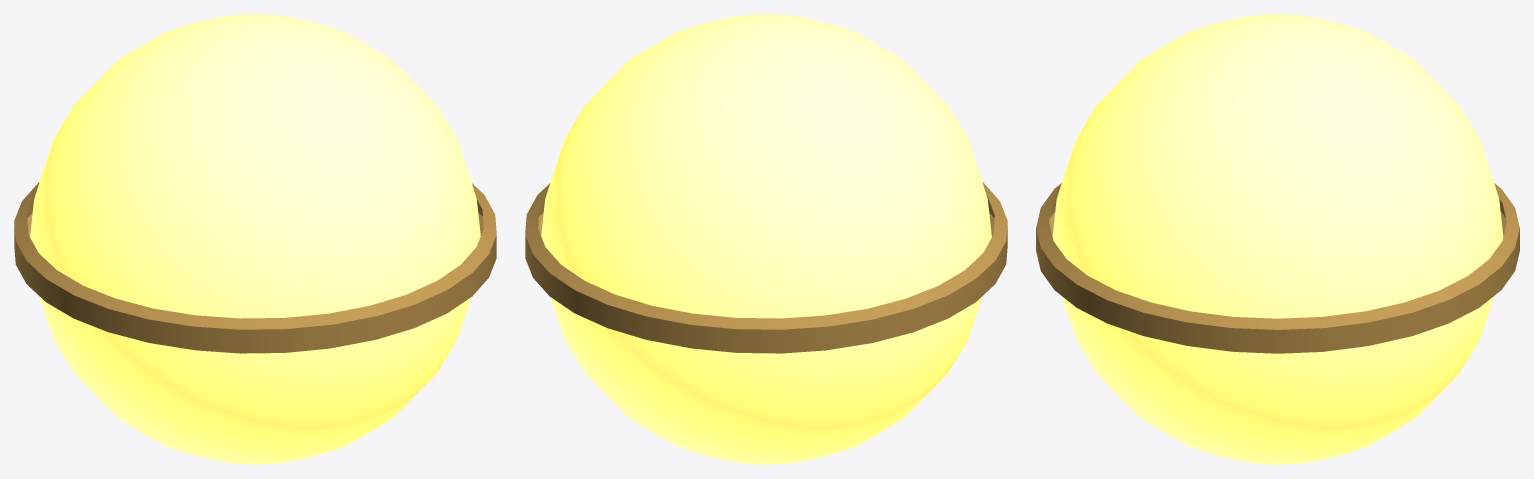
File: orrery_sun.glb
3 views of the same model, side by side, from view 1: azimuth 30°, elevation 25°; view 2: azimuth 150°, elevation 25°; view 3: azimuth 270°, elevation 25° (orthographic).
Visible parts, largest first — view 1: orrery_sun; view 2: orrery_sun; view 3: orrery_sun.
Part boxes in pixels (box(x1,y1,x2,y2)): orrery_sun: box(14, 14, 496, 464); orrery_sun: box(525, 14, 1007, 464); orrery_sun: box(1036, 14, 1519, 464).
Size of the model in its own units: 0.75 by 0.7 by 0.75.
